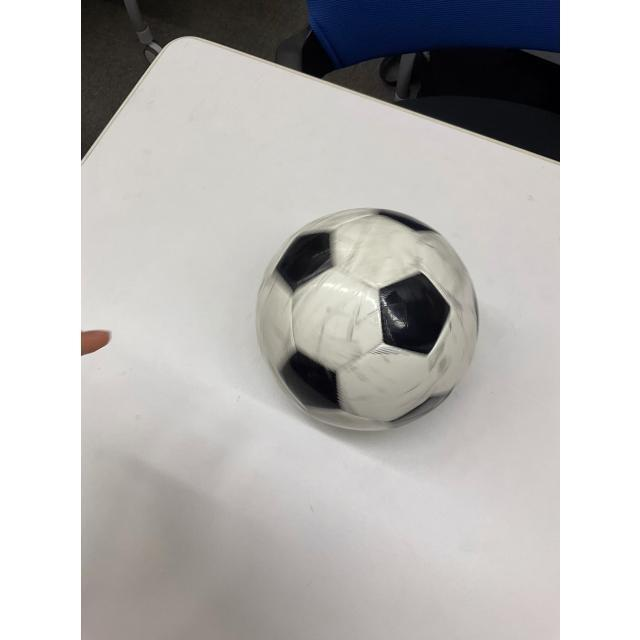Sports-Ball: (258, 210, 478, 430)
